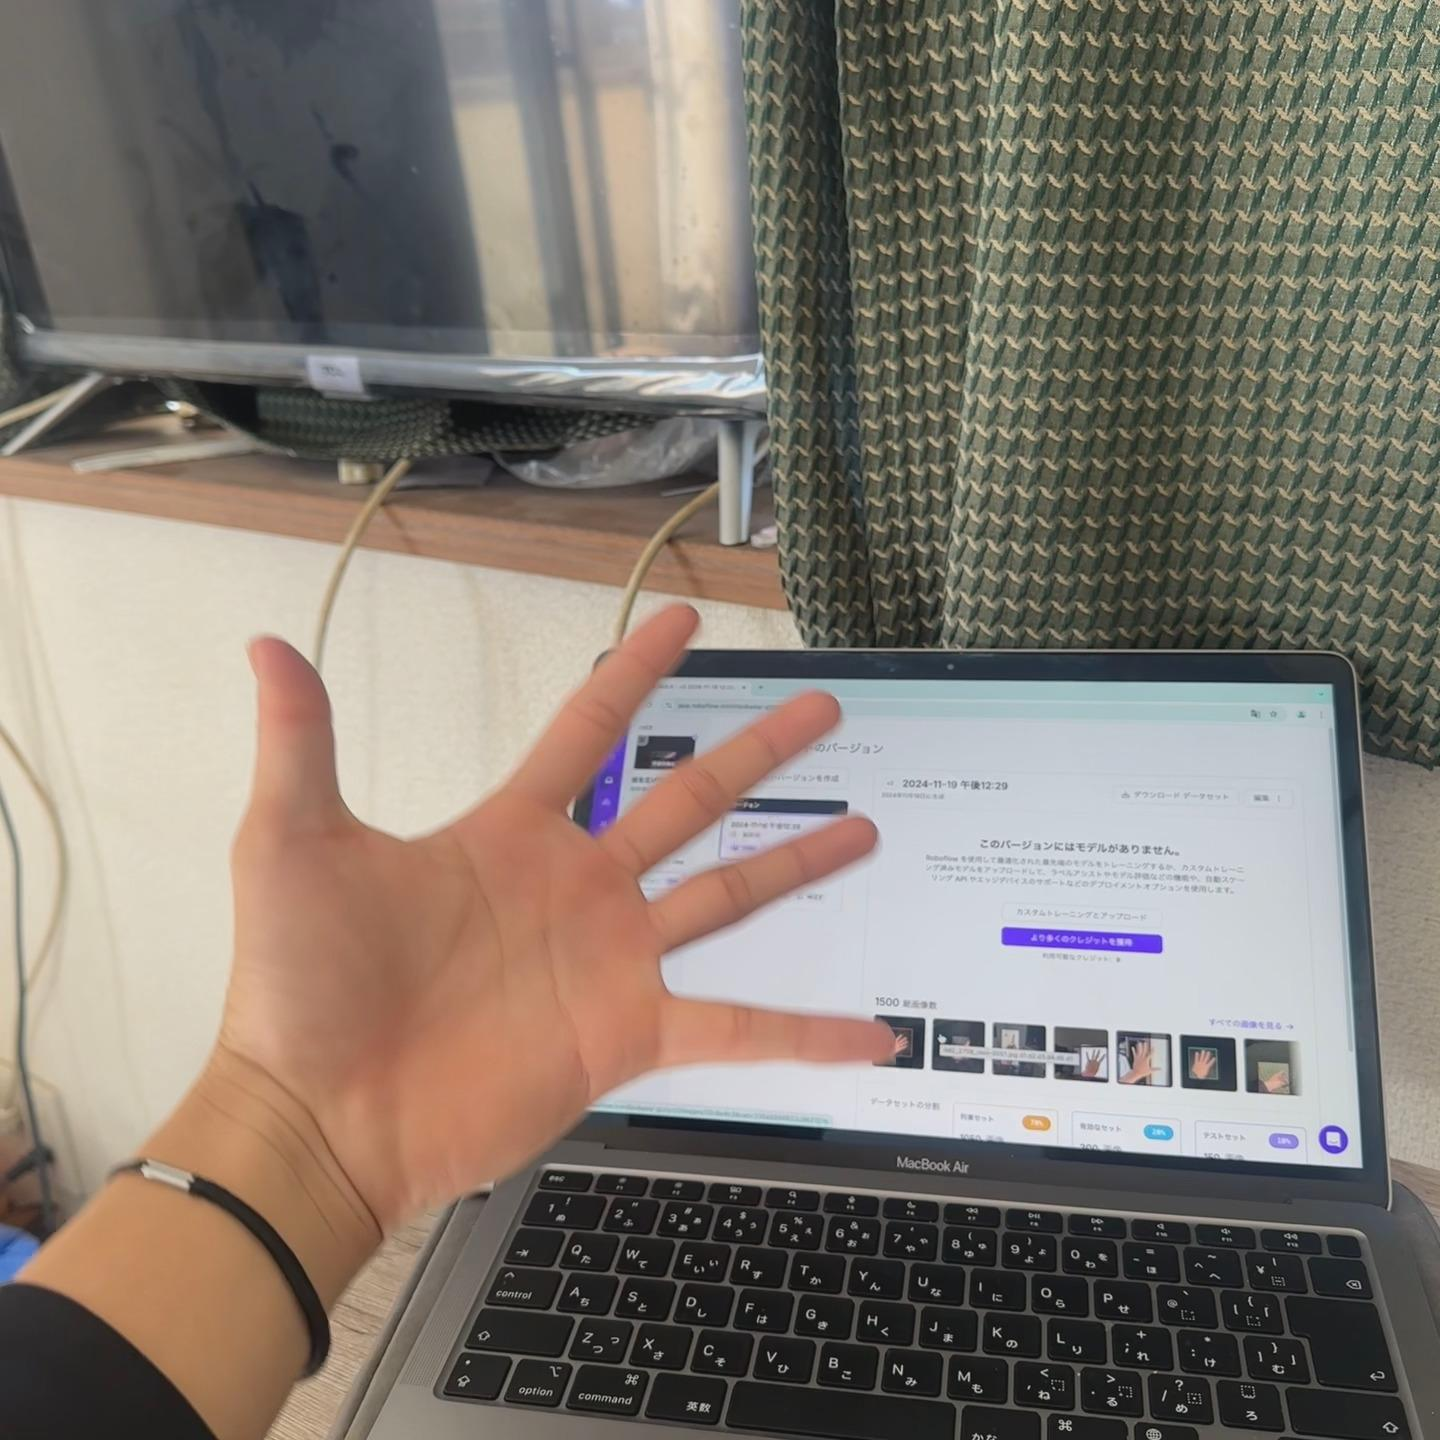without_gloves: (0, 414, 1125, 1353)
